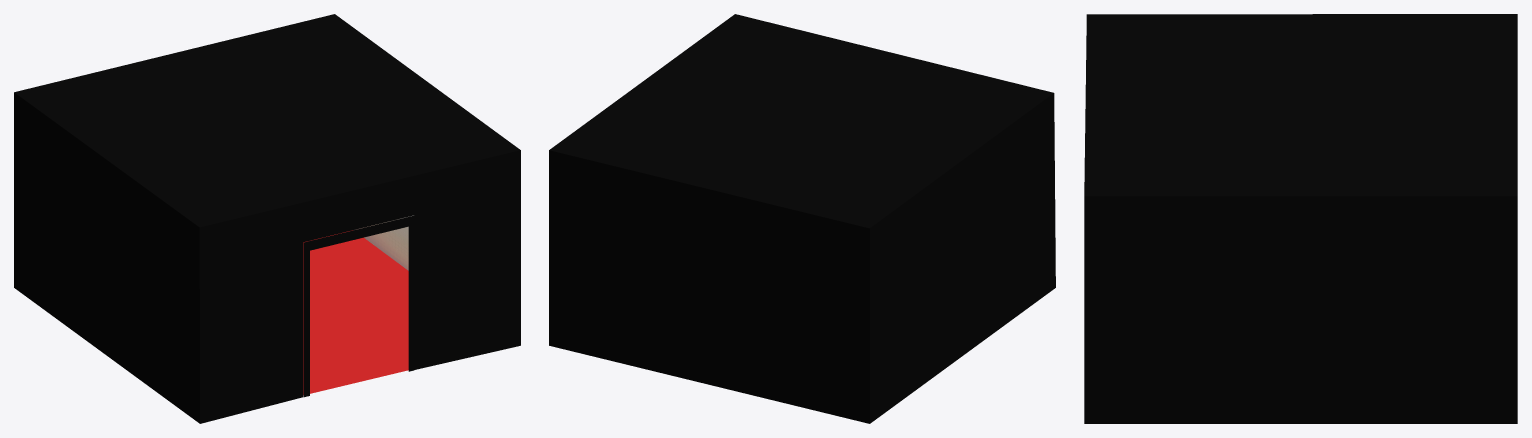
The model's file is insideout.glb.
The picture shows the model from 3 angles, left to right: view 1: azimuth 30°, elevation 25°; view 2: azimuth 150°, elevation 25°; view 3: azimuth 270°, elevation 25°; orthographic projection. The views are drawn at different scales.
Visible parts, largest first — view 1: clipCube, water, door, sky; view 2: clipCube; view 3: clipCube.
Boxes of the visible parts, box(x1,y1,x2,y2) form: clipCube: box(14, 14, 520, 423); water: box(303, 230, 408, 394); door: box(303, 215, 414, 397); sky: box(355, 215, 413, 270); clipCube: box(549, 14, 1055, 423); clipCube: box(1084, 14, 1517, 423).
Size of the model in its own units: 5.2 by 3.05 by 5.23.
3 materials, 1 textured.
